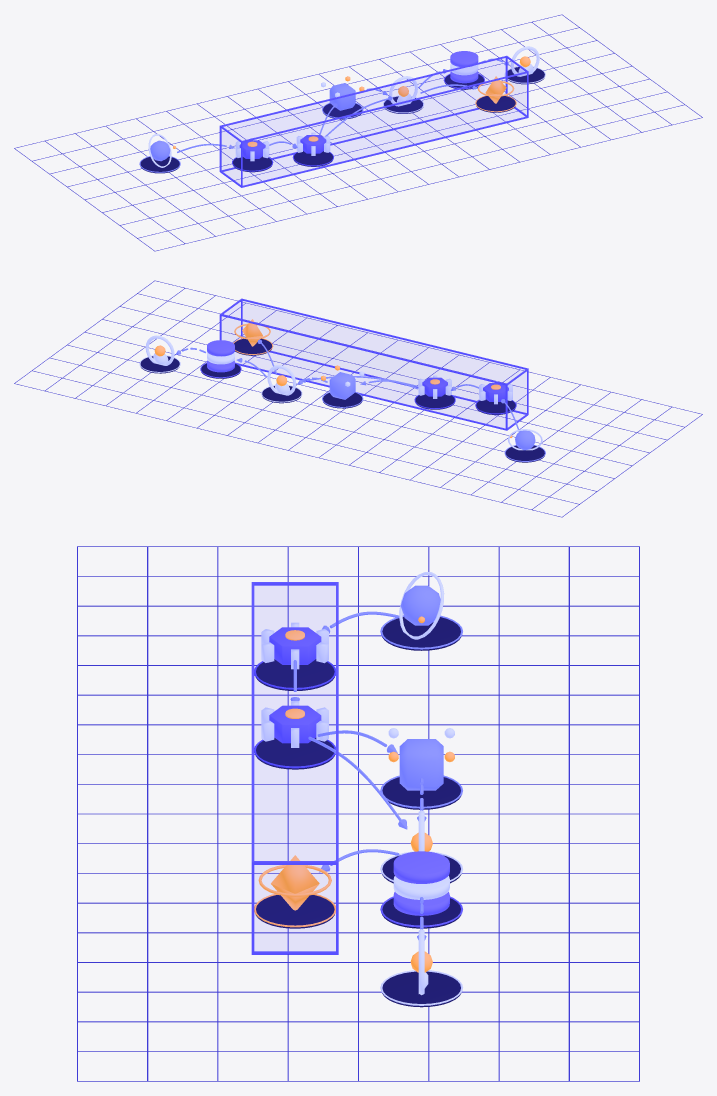
The picture shows the model from 3 angles, top to bottom: view 1: azimuth 30°, elevation 25°; view 2: azimuth 150°, elevation 25°; view 3: azimuth 270°, elevation 25°; orthographic projection. The views are drawn at different scales.
Parts seen in each view (by area): view 1: floor, group_Load_generator, mesh_target_core, mesh_thresholds_pad, mesh_script_pad, mesh_vus_pad, mesh_k6_pad, mesh_metrics_pad, mesh_grafana_pad, mesh_prom_disc2; view 2: floor, group_Load_generator, mesh_target_core, mesh_script_pad, mesh_vus_pad, mesh_thresholds_pad, mesh_k6_pad, mesh_target_pad, mesh_metrics_pad, mesh_grafana_pad, mesh_prom_disc2; view 3: floor, group_Load_generator, mesh_target_core, mesh_grafana_pad, mesh_thresholds_pad, mesh_script_pad, mesh_vus_pad, mesh_k6_pad, mesh_prom_disc2, mesh_target_pad, mesh_vus_hex, mesh_k6_hex (+5 smaller).
Part boxes in pixels (box(x1,y1,x2,y2)): floor: box(14, 14, 702, 251); group_Load_generator: box(219, 55, 528, 187); mesh_target_core: box(329, 83, 355, 110); mesh_thresholds_pad: box(476, 96, 515, 112); mesh_script_pad: box(140, 156, 179, 173); mesh_vus_pad: box(294, 151, 332, 166); mesh_k6_pad: box(233, 156, 272, 172); mesh_metrics_pad: box(384, 96, 423, 113); mesh_grafana_pad: box(507, 67, 544, 84); mesh_prom_disc2: box(450, 51, 478, 66); floor: box(14, 280, 702, 517); group_Load_generator: box(219, 298, 528, 430); mesh_target_core: box(329, 372, 355, 399); mesh_script_pad: box(505, 445, 544, 462); mesh_vus_pad: box(415, 394, 454, 409); mesh_thresholds_pad: box(234, 338, 272, 355); mesh_k6_pad: box(476, 399, 515, 414); mesh_target_pad: box(323, 392, 362, 408); mesh_metrics_pad: box(262, 386, 301, 403); mesh_grafana_pad: box(140, 356, 179, 373); mesh_prom_disc2: box(207, 340, 234, 356); floor: box(77, 546, 639, 1081); group_Load_generator: box(251, 582, 338, 954); mesh_target_core: box(399, 739, 443, 790); mesh_grafana_pad: box(382, 971, 461, 1007); mesh_thresholds_pad: box(255, 895, 334, 928); mesh_script_pad: box(382, 617, 461, 650); mesh_vus_pad: box(255, 738, 334, 769); mesh_k6_pad: box(255, 659, 334, 690); mesh_prom_disc2: box(393, 851, 449, 883); mesh_target_pad: box(382, 777, 461, 809); mesh_vus_hex: box(269, 705, 321, 743); mesh_k6_hex: box(269, 627, 321, 664).
Bounding box in the file's own units: 36.03 × 2.99 × 16.03.
